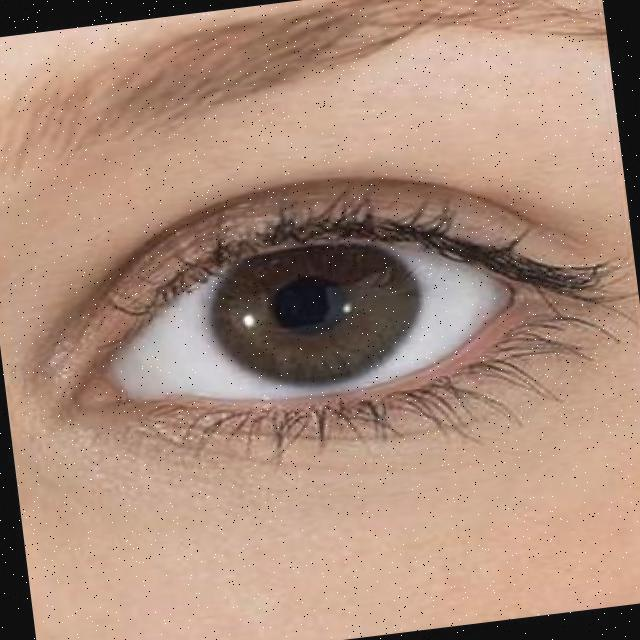Normal: (51, 169, 610, 524)
